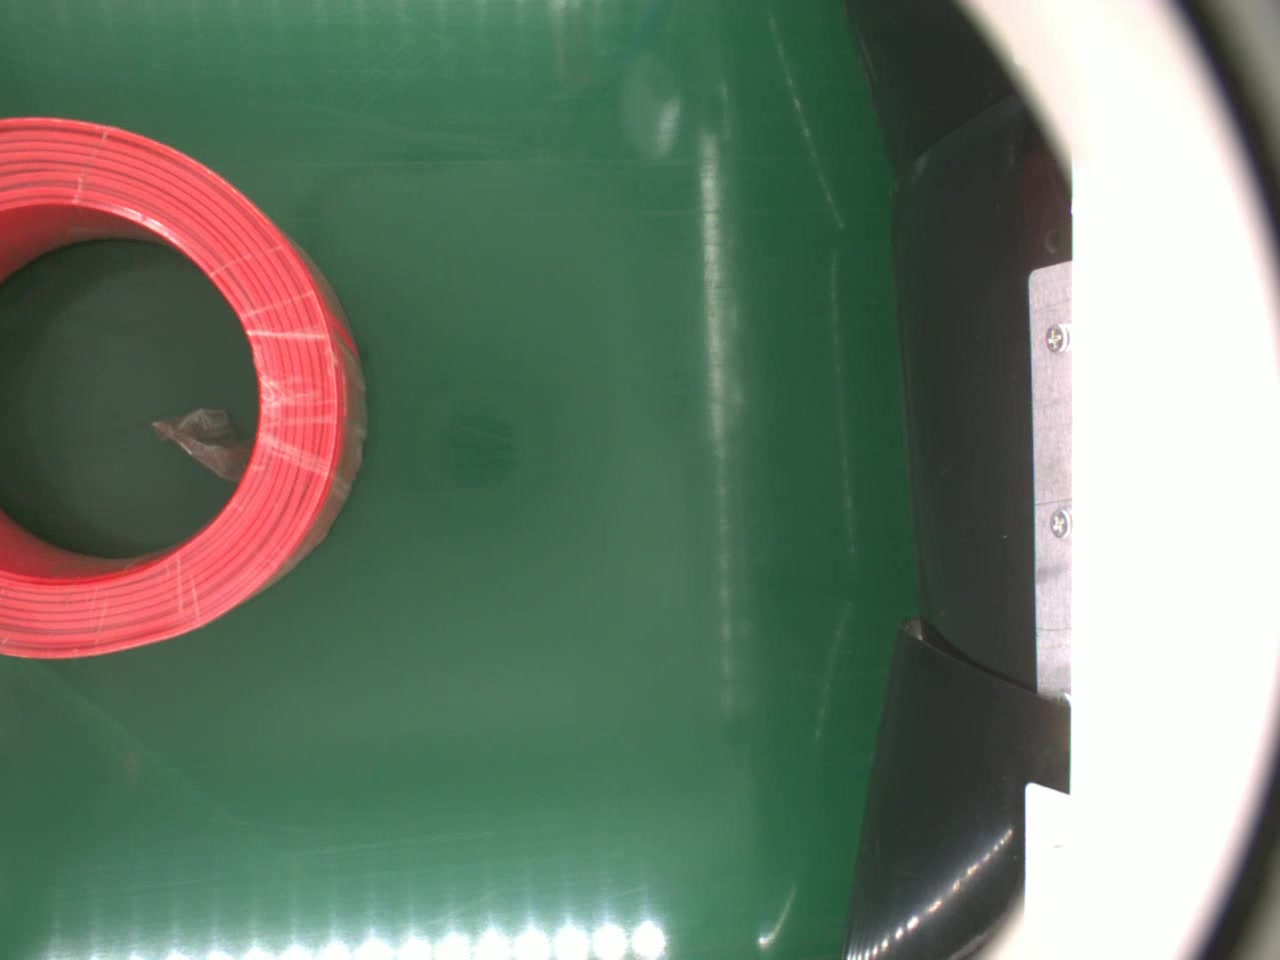red: (0, 110, 365, 659)
